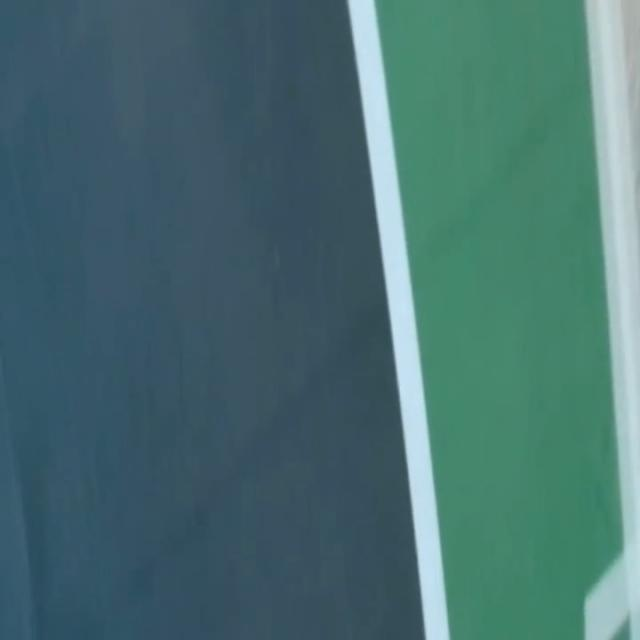right: (348, 0, 449, 639)
